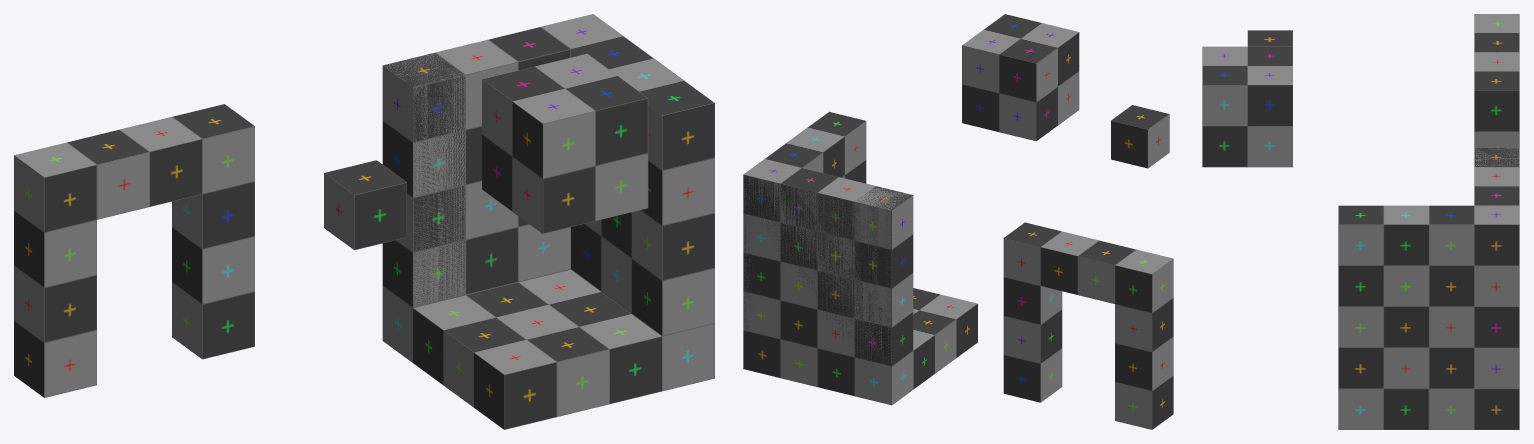
File: Modular Wall Corner.glb
3 views of the same model, side by side, from view 1: azimuth 30°, elevation 25°; view 2: azimuth 150°, elevation 25°; view 3: azimuth 270°, elevation 25° (orthographic). The views are drawn at different scales.
Visible parts, largest first — view 1: Modular Wall Doorway, Modular Wall, Modular Floor, Modular Wall Corner, Modualr Test Cube 2x2, Modular Pillar, Modualr Test Cube 1x1; view 2: Modular Wall, Modular Wall Doorway, Modular Wall Corner, Modualr Test Cube 2x2, Modular Floor, Modular Pillar, Modualr Test Cube 1x1; view 3: Modular Wall Corner, Modualr Test Cube 2x2, Modular Wall, Modular Floor, Modular Wall Doorway, Modualr Test Cube 1x1, Modular Pillar.
Part boxes in pixels (<box>): Modular Wall Doorway: <box>14,104,254,397</box>; Modular Wall: <box>382,14,623,307</box>; Modular Floor: <box>382,269,714,429</box>; Modular Wall Corner: <box>384,14,714,336</box>; Modualr Test Cube 2x2: <box>482,53,648,233</box>; Modular Pillar: <box>383,53,465,307</box>; Modualr Test Cube 1x1: <box>324,160,406,250</box>; Modular Wall: <box>743,159,913,366</box>; Modular Wall Doorway: <box>1003,222,1173,429</box>; Modular Wall Corner: <box>743,111,903,364</box>; Modualr Test Cube 2x2: <box>962,14,1079,141</box>; Modular Floor: <box>743,288,977,405</box>; Modular Pillar: <box>854,187,912,365</box>; Modualr Test Cube 1x1: <box>1111,105,1169,168</box>; Modular Wall Corner: <box>1338,148,1519,388</box>; Modualr Test Cube 2x2: <box>1202,46,1292,167</box>; Modular Wall: <box>1474,148,1519,388</box>; Modular Floor: <box>1338,389,1519,429</box>; Modular Wall Doorway: <box>1474,14,1519,147</box>; Modualr Test Cube 1x1: <box>1247,30,1292,46</box>; Modular Pillar: <box>1474,148,1519,167</box>.
Bounding box in the file's own units: 11 × 7 × 7.
Materials: 1 (1 with a texture image).
